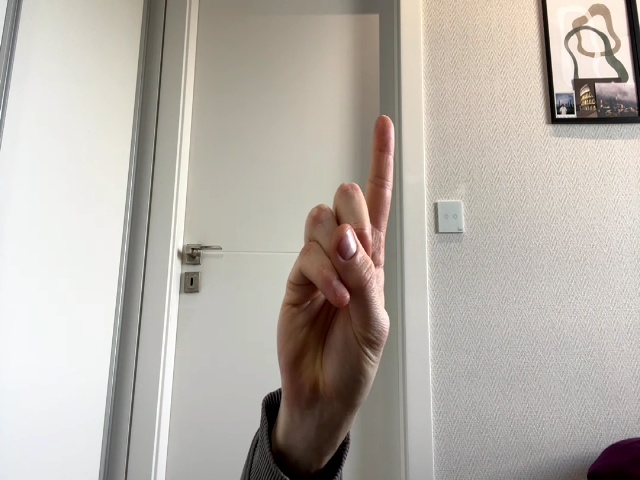Z: (277, 115, 394, 415)
